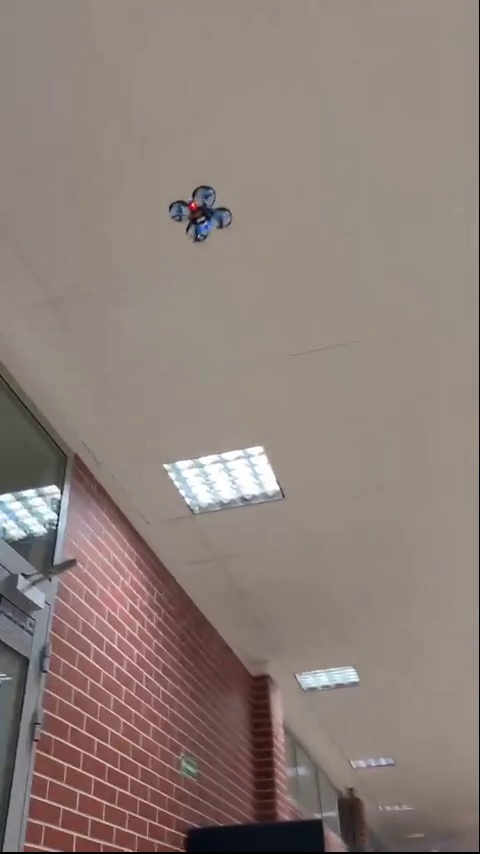drone: (164, 183, 237, 240)
